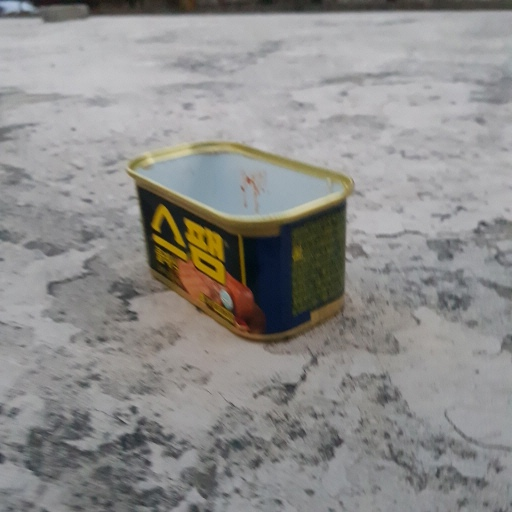Metal_2: (124, 134, 354, 344)
